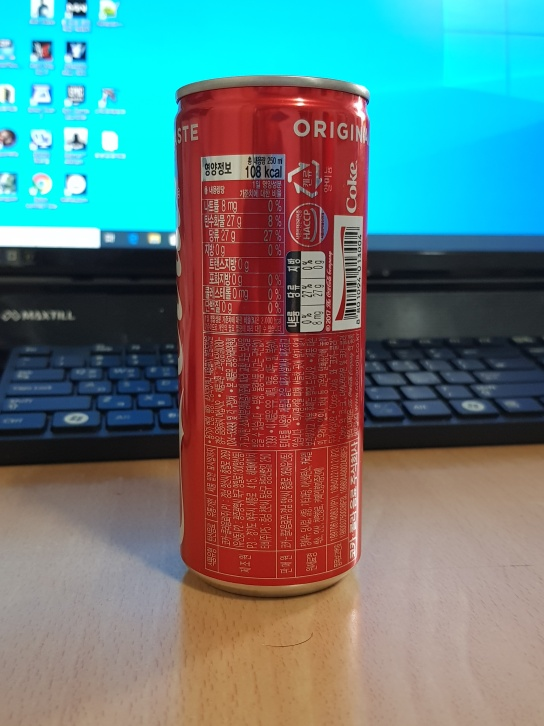Can: (170, 71, 373, 600)
